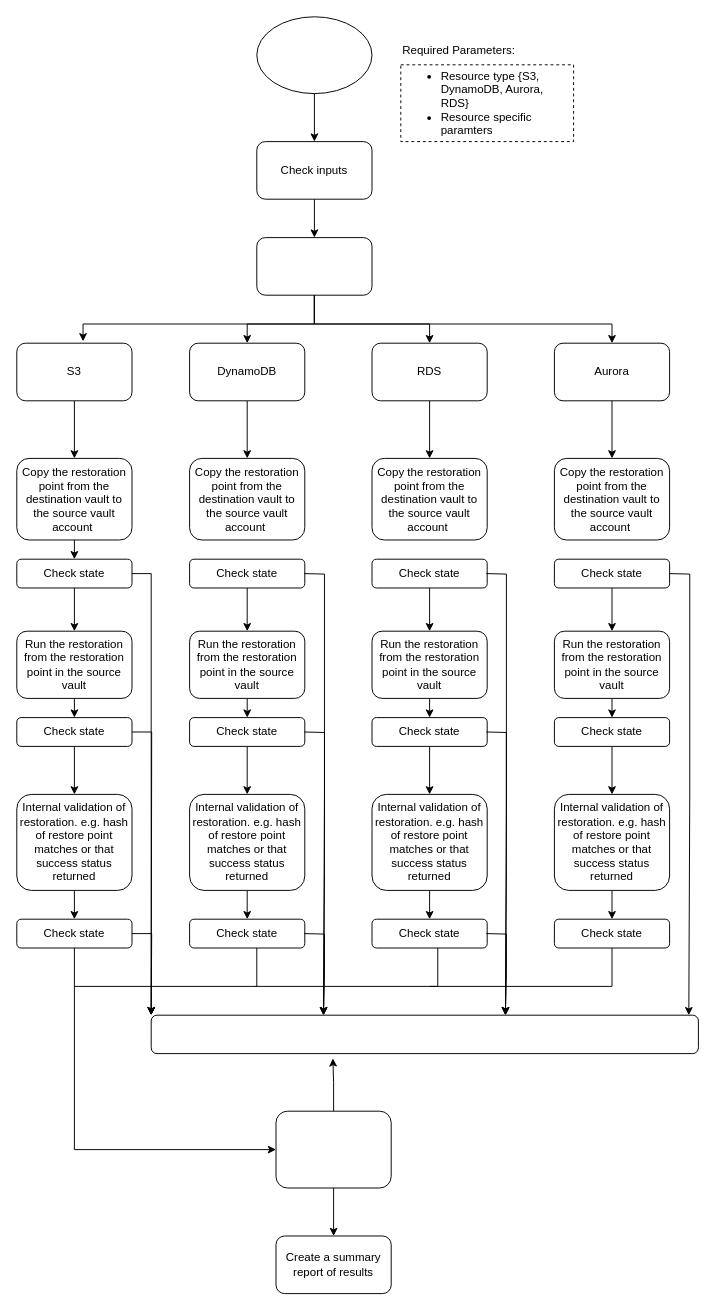
The diagram is 715 pixels wide and 1310 high, and some of its shapes have lost their labels. Each missing label, with the centre of its shape:
"Choosing resource type path" belongs at (314,266).
"Error" belongs at (424,1034).
"Start" belongs at (314,55).
"Trigger customer provided Lambda for additional validation steps" belongs at (333,1149).
